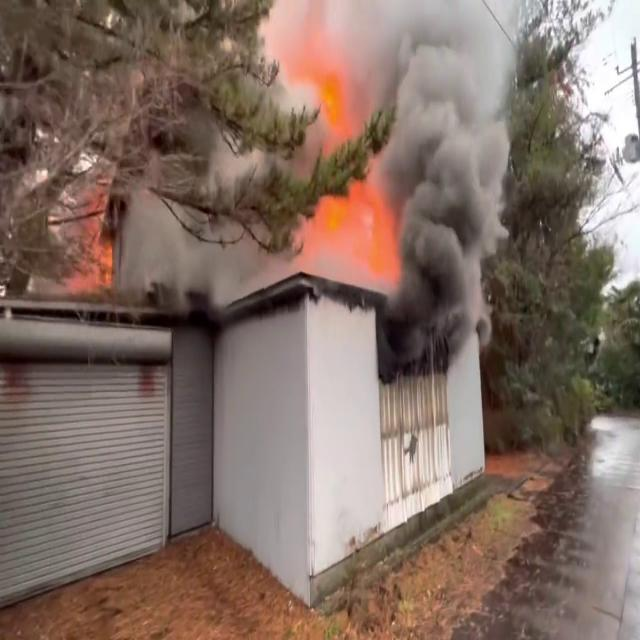Fire: (289, 170, 403, 284)
Smoke: (292, 0, 522, 353)
